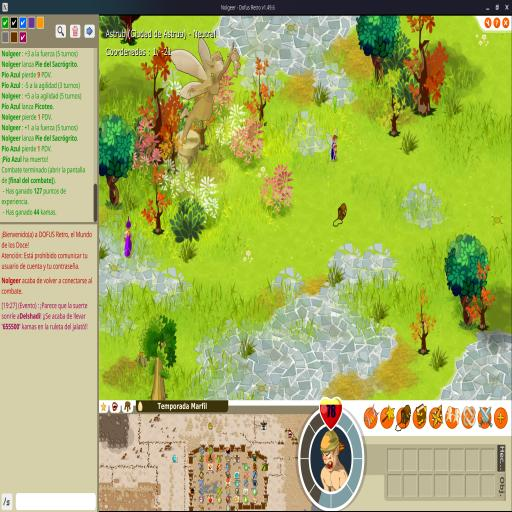Personaje: (121, 214, 134, 264)
